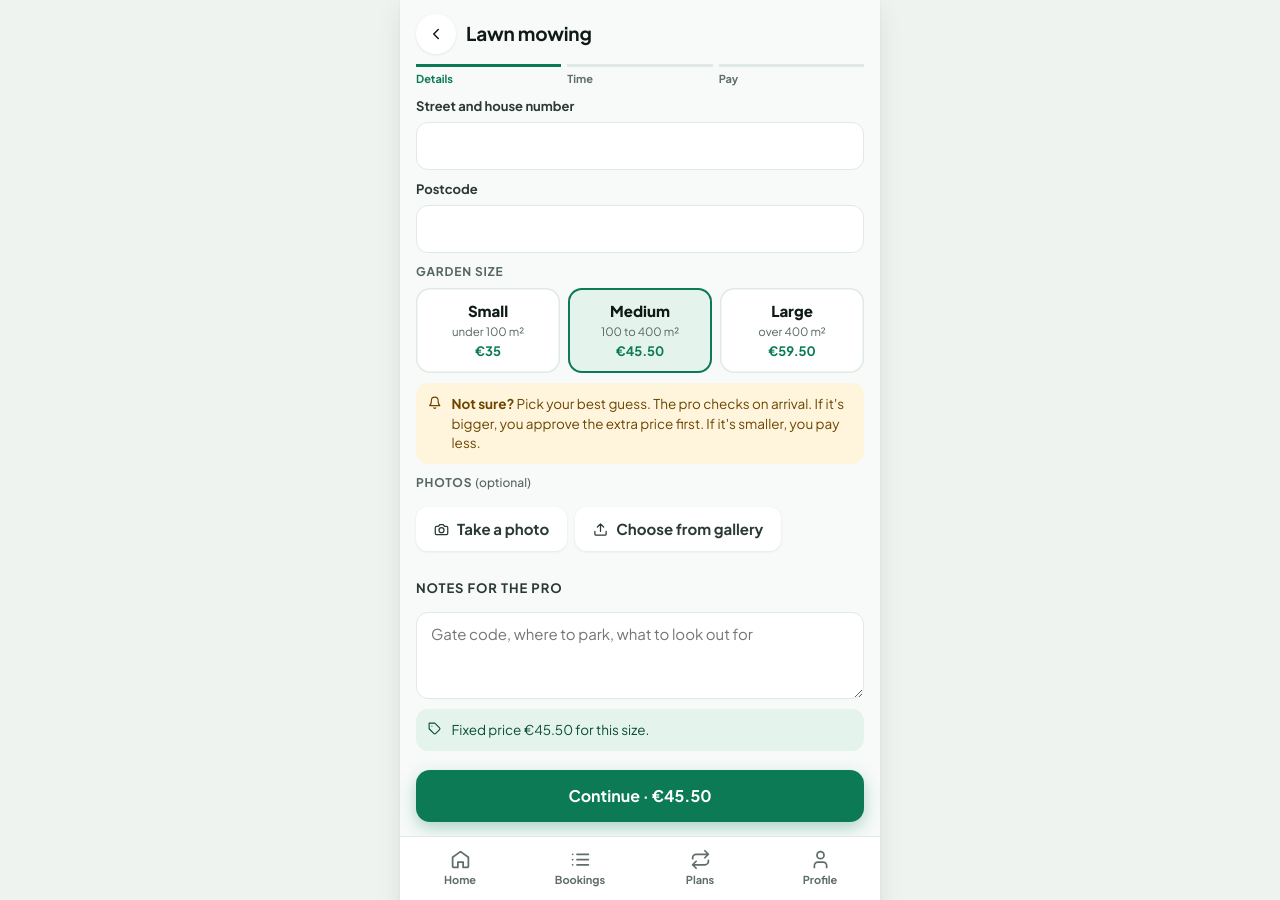
Test case: Choose time: the date picker (D101) › keeps a week of day buttons and opens a month calendar limited to the bookable days
Type "12 Linden Street" into the field labelled "Street and house number" at (640, 146), box [416,122,864,170]
Type "10115" into the field labelled "Postcode" at (640, 229), box [416,205,864,253]
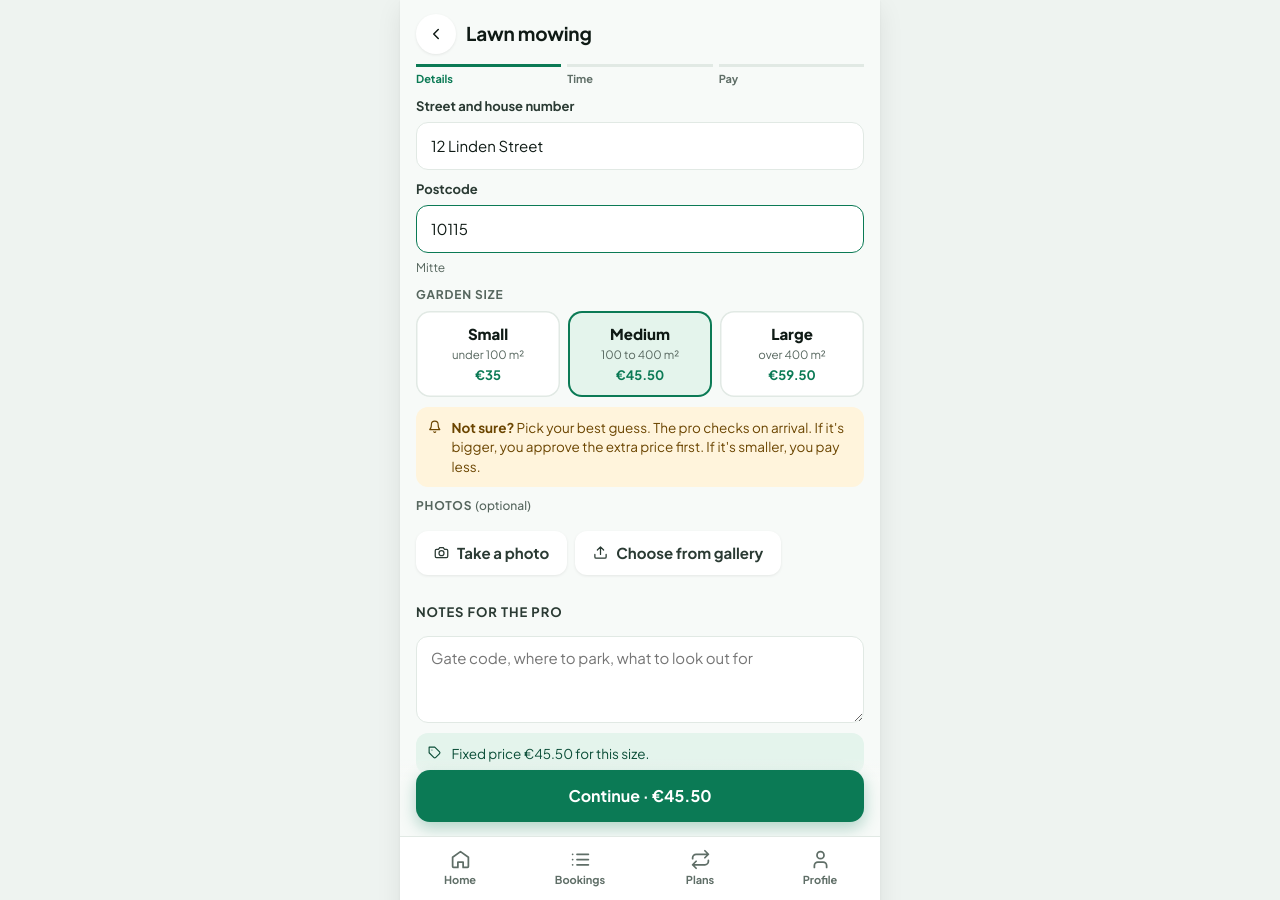
Click the button "Continue · €45.50" at (640, 796), box [416,770,864,822]
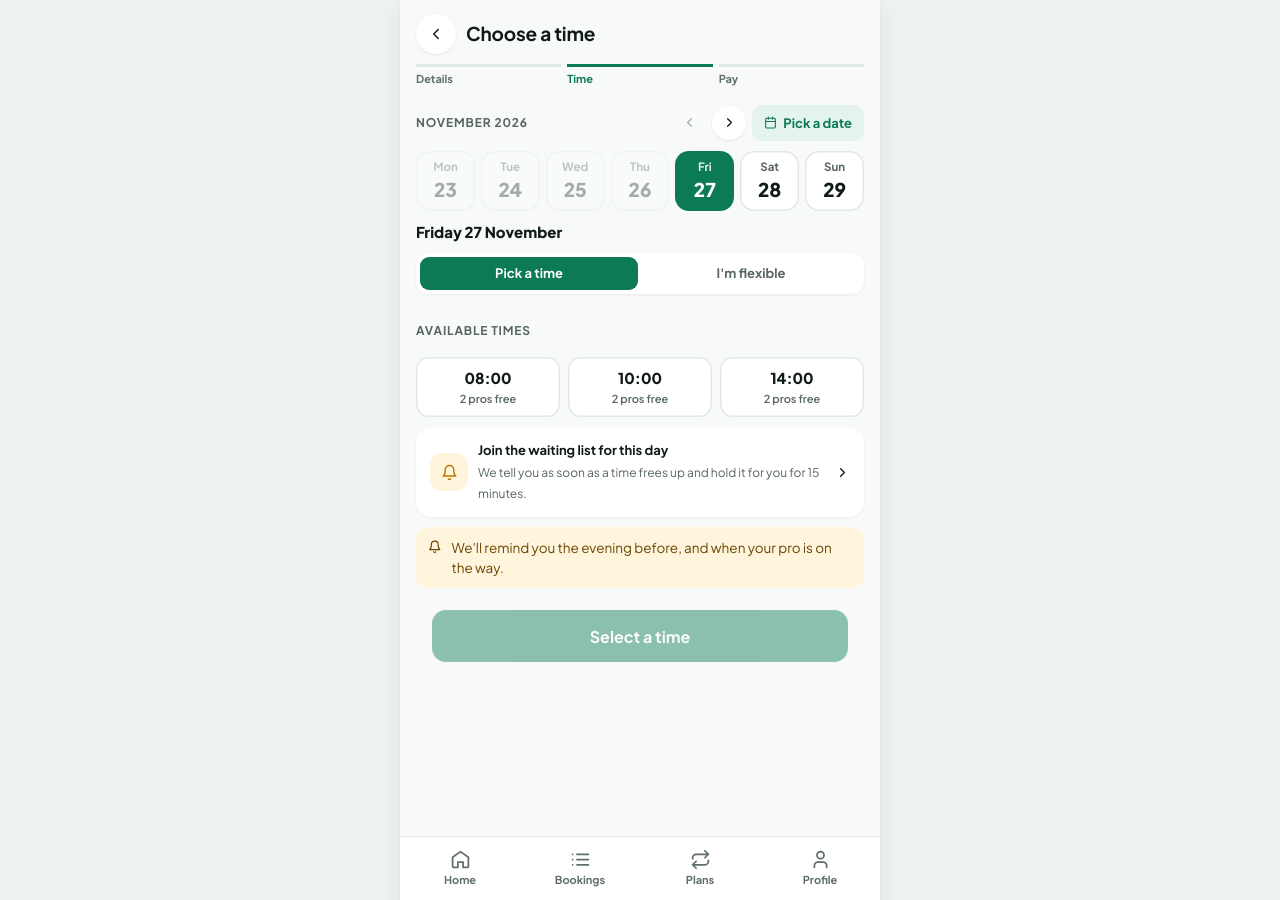
Expected: the button named "Earlier days" is disabled, [672,106,706,140]
Result: the element named "Day" is shown at [416,151,864,211]
Click the button "Pick a date" at (808, 123), box [752,105,864,141]
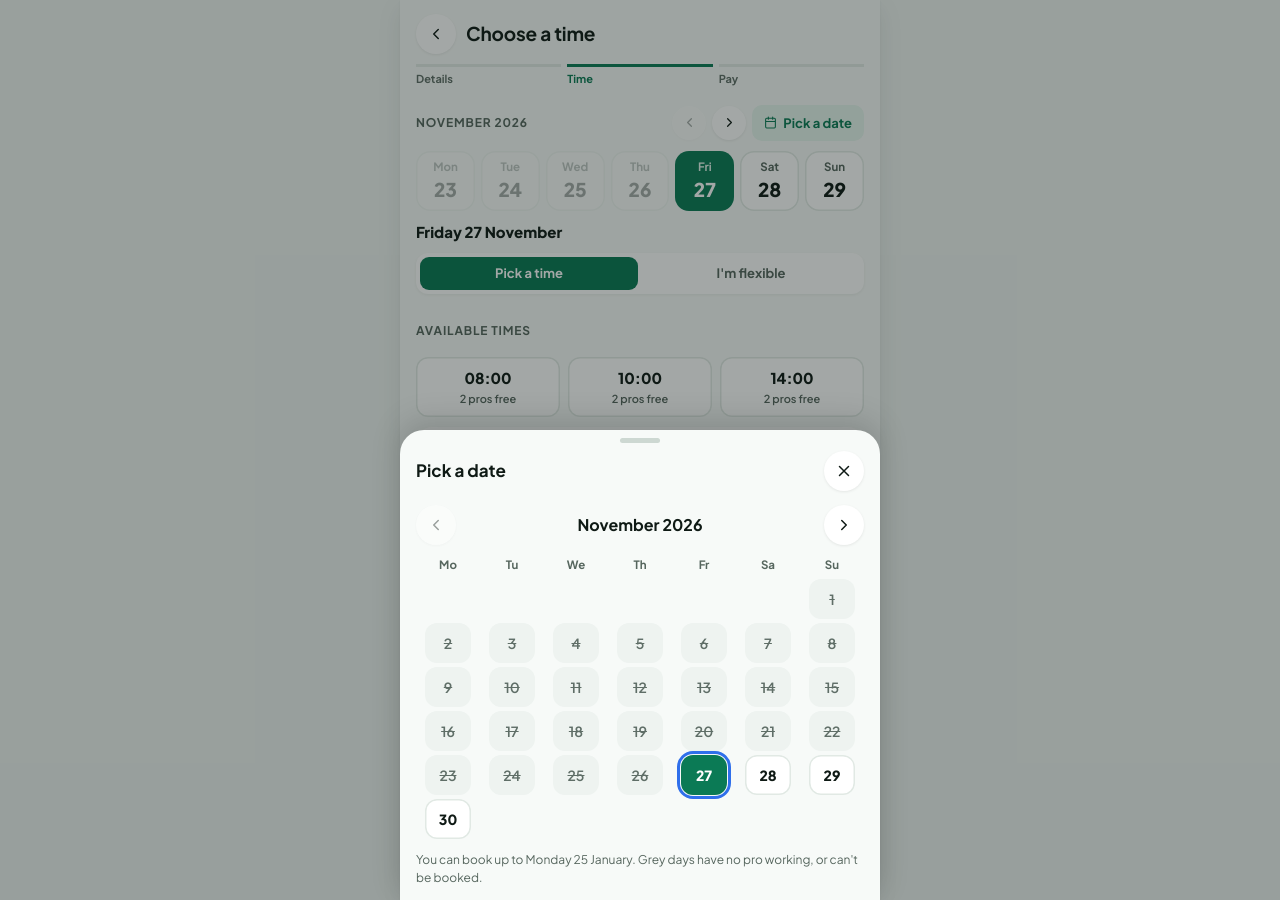
Result: the heading "November 2026" is shown at [578,514,702,535]
Result: the button named "Previous month" is disabled at [416,504,456,544]
Result: the text "You can book up to" is shown at [416,852,858,885]
Click the button named "Next month" at (844, 524), box [824,504,864,544]
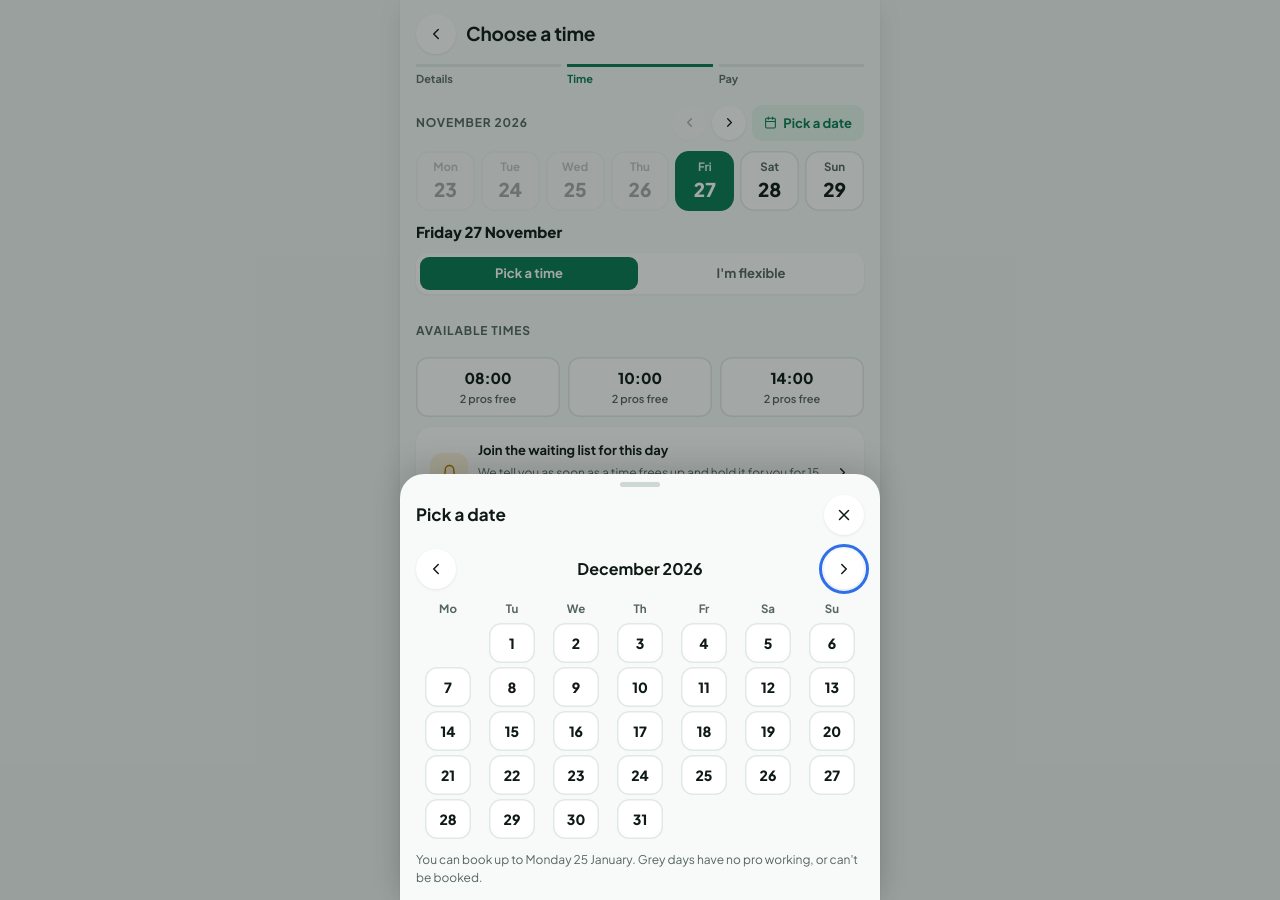
Click the button named "Next month" at (844, 568), box [824,548,864,588]
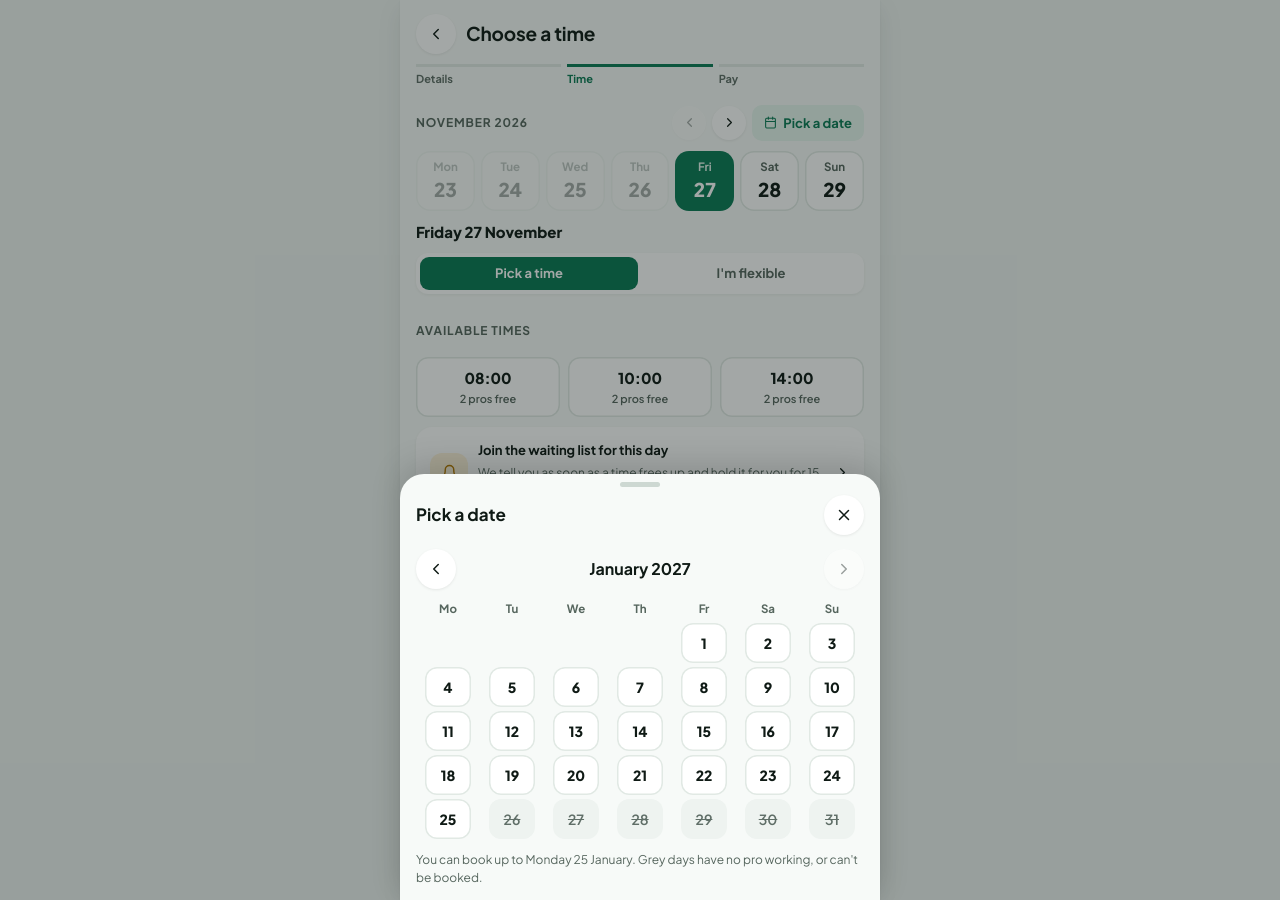
Press Escape
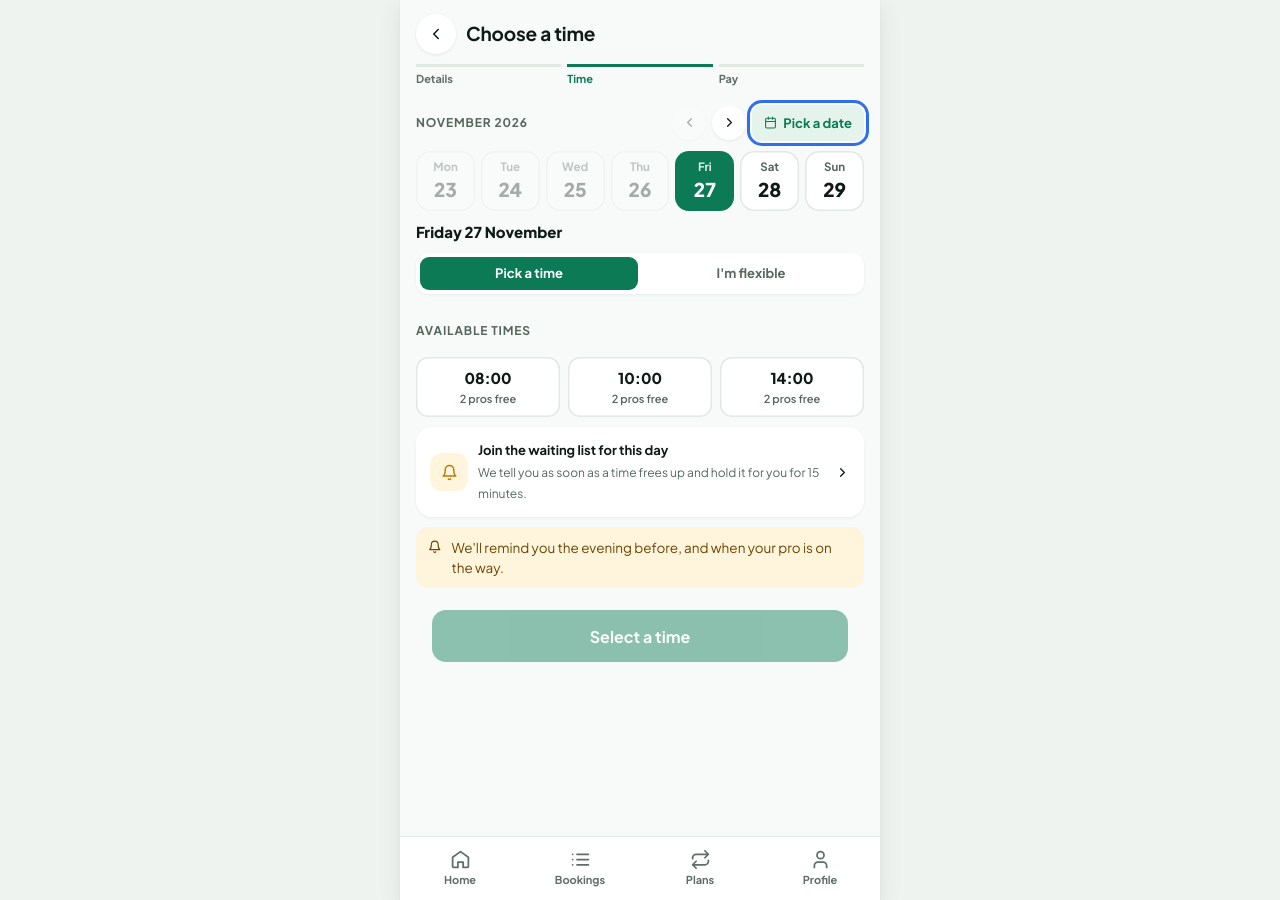
Result: the dialog is gone
